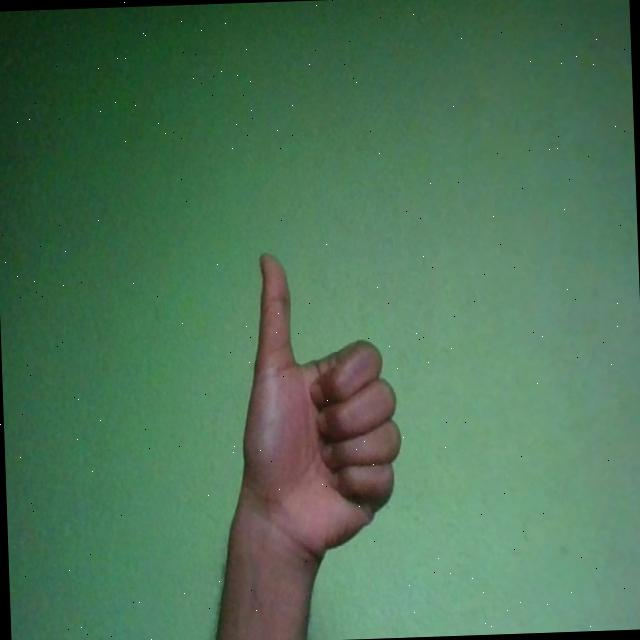Good Job: (234, 248, 406, 567)
